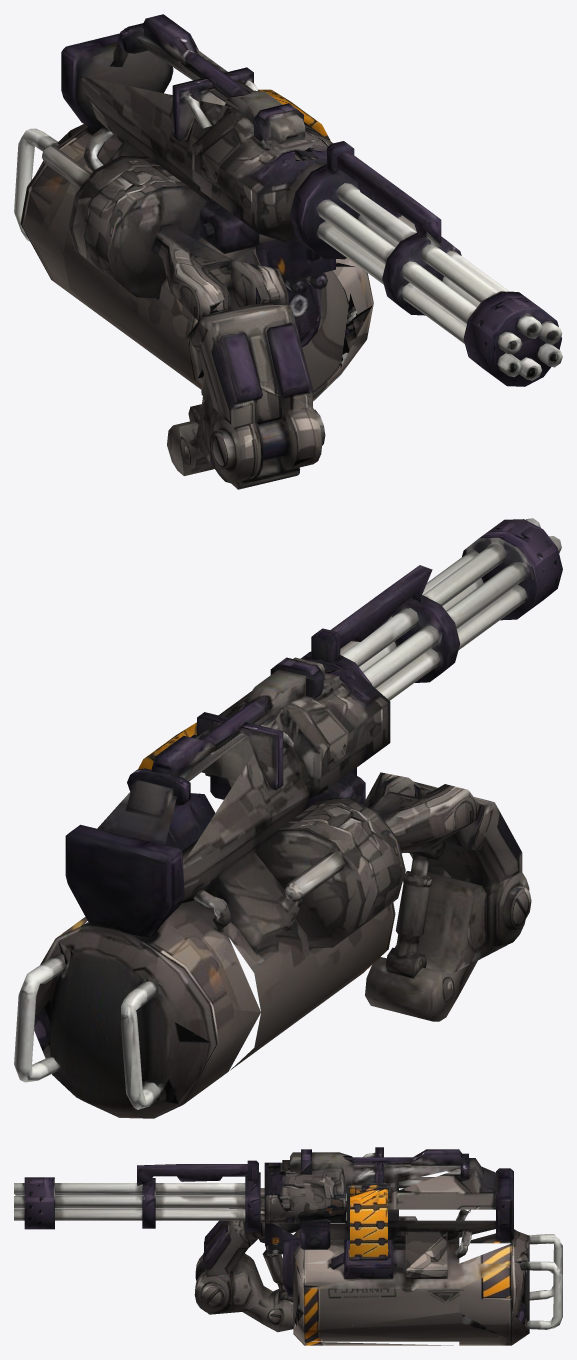
3 views of the same model, one above another, from view 1: azimuth 30°, elevation 25°; view 2: azimuth 150°, elevation 25°; view 3: azimuth 270°, elevation 25° (orthographic). The views are drawn at different scales.
Visible parts, largest first — view 1: gun, spin; view 2: gun, spin; view 3: gun, spin.
Part boxes in pixels (<box>): gun: <box>14,14,441,489</box>; spin: <box>290,164,562,386</box>; gun: <box>14,565,531,1118</box>; spin: <box>301,518,562,700</box>; gun: <box>137,1147,562,1345</box>; spin: <box>14,1172,260,1232</box>.
Bounding box in the file's own units: 0.5039 × 0.6757 × 1.7.
Materials: 1 (1 with a texture image).
